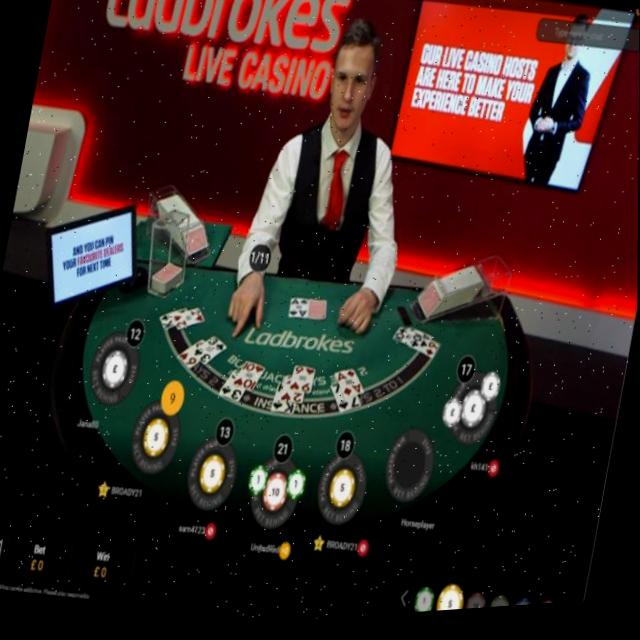Card-10: (233, 363, 265, 394), (393, 330, 424, 355)
Card-2: (280, 378, 304, 408), (173, 310, 204, 332)
Card-3: (192, 338, 226, 368), (218, 372, 245, 406)
Card-6: (178, 341, 205, 372), (425, 346, 440, 364)
Card-7: (331, 388, 360, 416)
Card-9: (290, 369, 315, 397)
Card-A: (335, 373, 364, 403), (288, 301, 309, 322), (418, 339, 433, 359)
Card-K: (271, 386, 296, 418), (159, 308, 187, 332)
